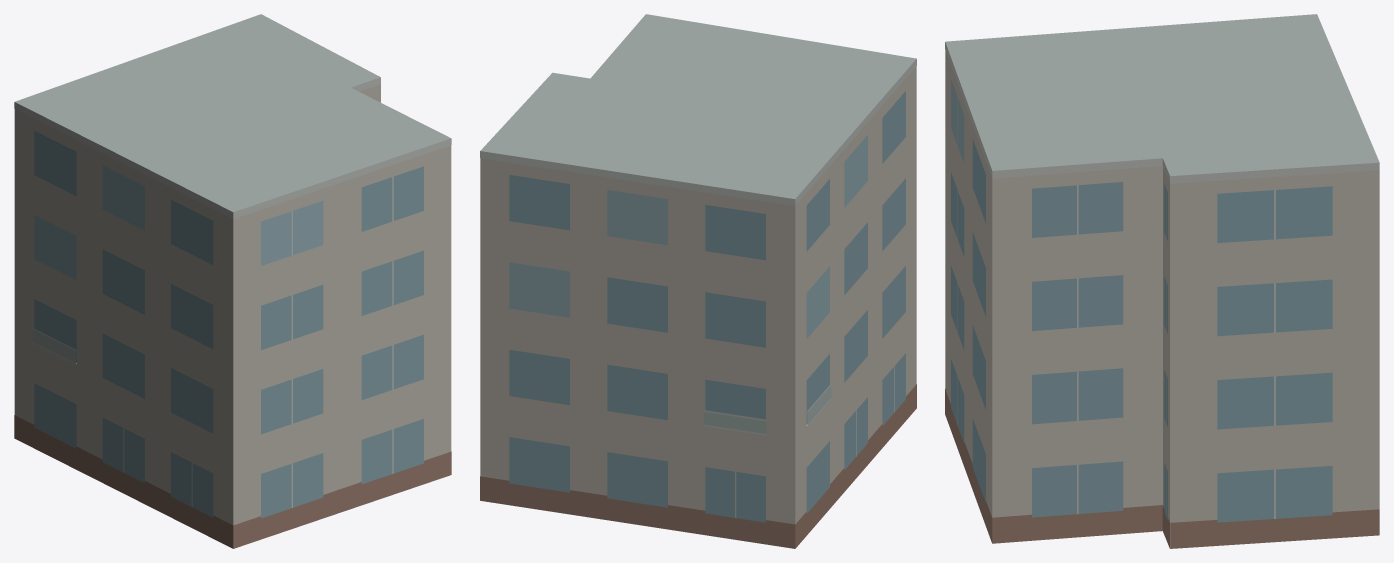
The model's file is survey-upis-32741697.glb.
The picture shows the model from 3 angles, left to right: view 1: azimuth 30°, elevation 25°; view 2: azimuth 150°, elevation 25°; view 3: azimuth 270°, elevation 25°; orthographic projection. The views are drawn at different scales.
Visible parts, largest first — view 1: survey-upis-32741697.tmp; view 2: survey-upis-32741697.tmp; view 3: survey-upis-32741697.tmp.
Part boxes in pixels (<box>): survey-upis-32741697.tmp: <box>14,14,451,548</box>; survey-upis-32741697.tmp: <box>480,14,916,548</box>; survey-upis-32741697.tmp: <box>945,14,1379,548</box>.
Bounding box in the file's own units: 11.22 × 12.02 × 12.71.
